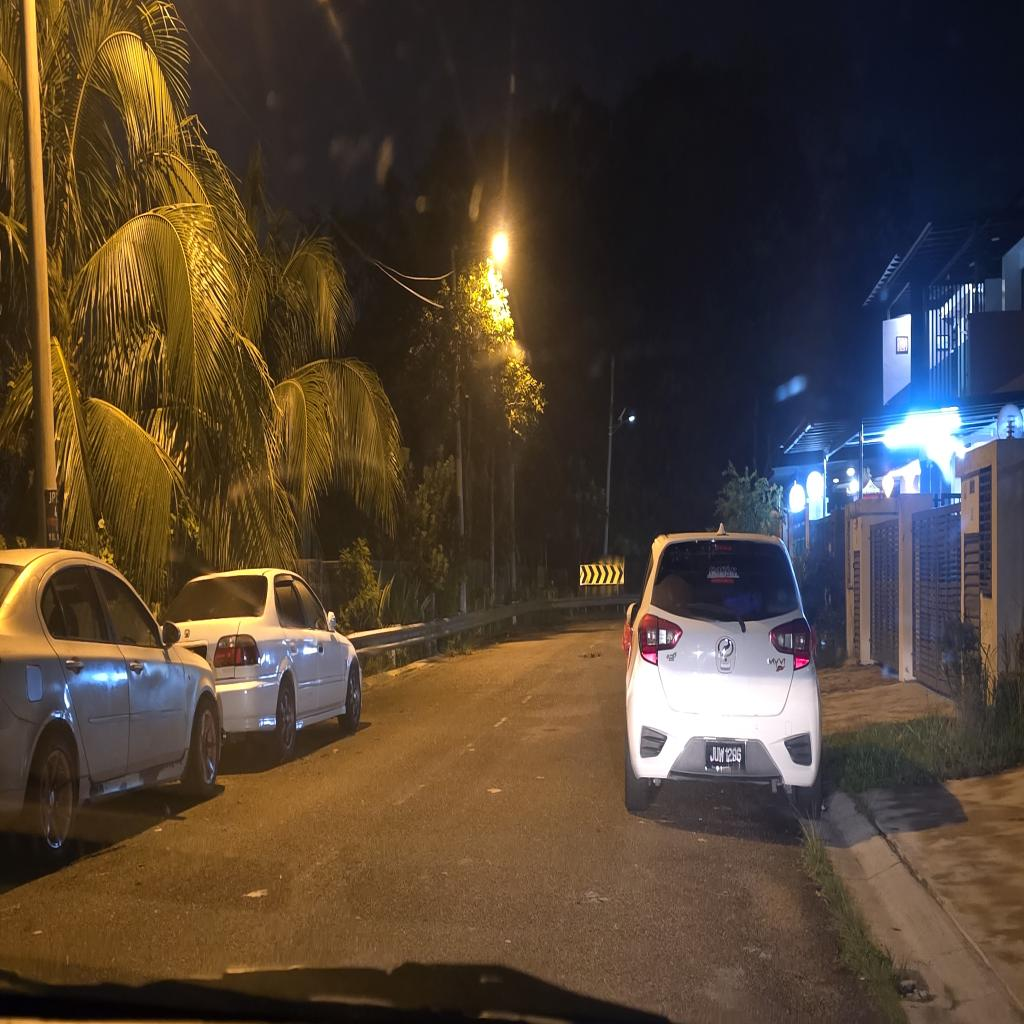car: (624, 528, 821, 816)
car plate: (706, 741, 745, 773)
